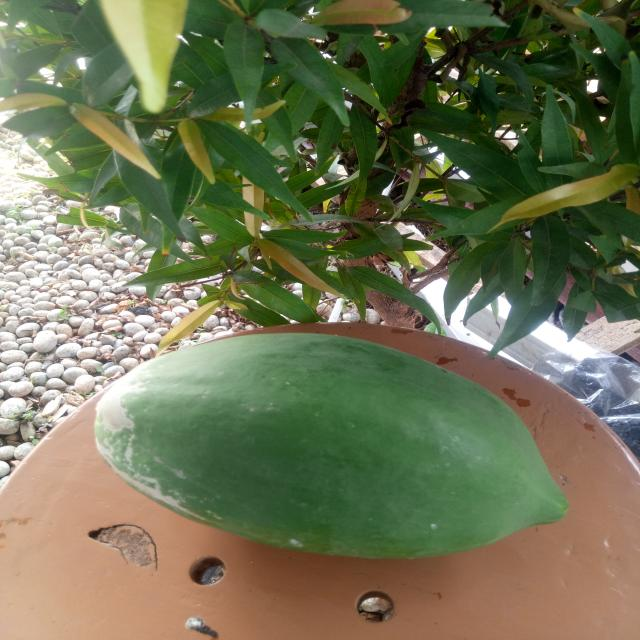Pepaya unrippen: (80, 327, 582, 569)
